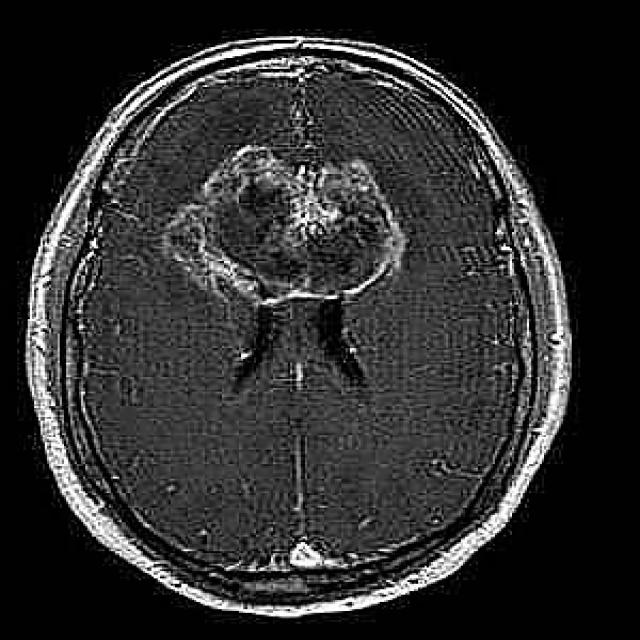Tumor-Cell: (179, 110, 434, 312)
